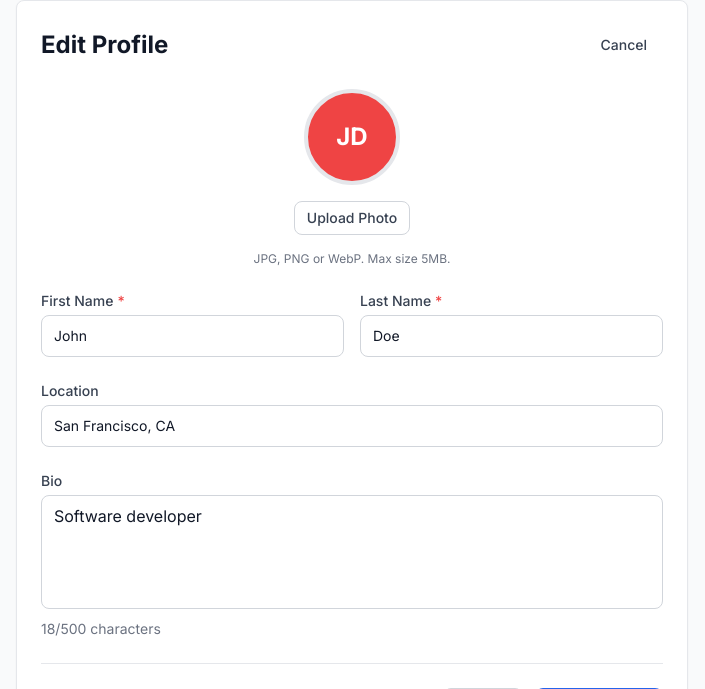
Test: ProfileEdit › shows character count for bio field
Expected: the text "18/500 characters" is shown, 41,620 -> 161,637
Replace the text in the text box with "New bio content": (352,552) 41,495 -> 663,609
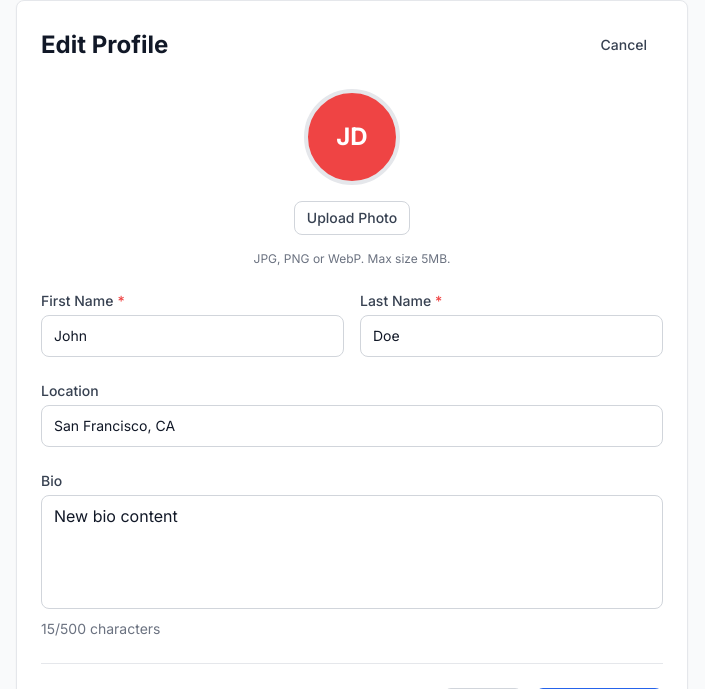
Expected: the text "15/500 characters" is shown, 41,620 -> 160,637
